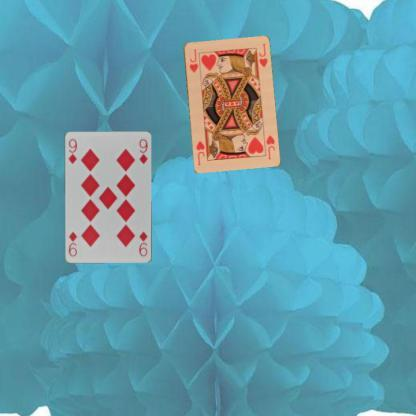9d: (136, 229, 149, 258), (66, 136, 78, 166)
Jh: (186, 46, 198, 74), (264, 132, 275, 161)
